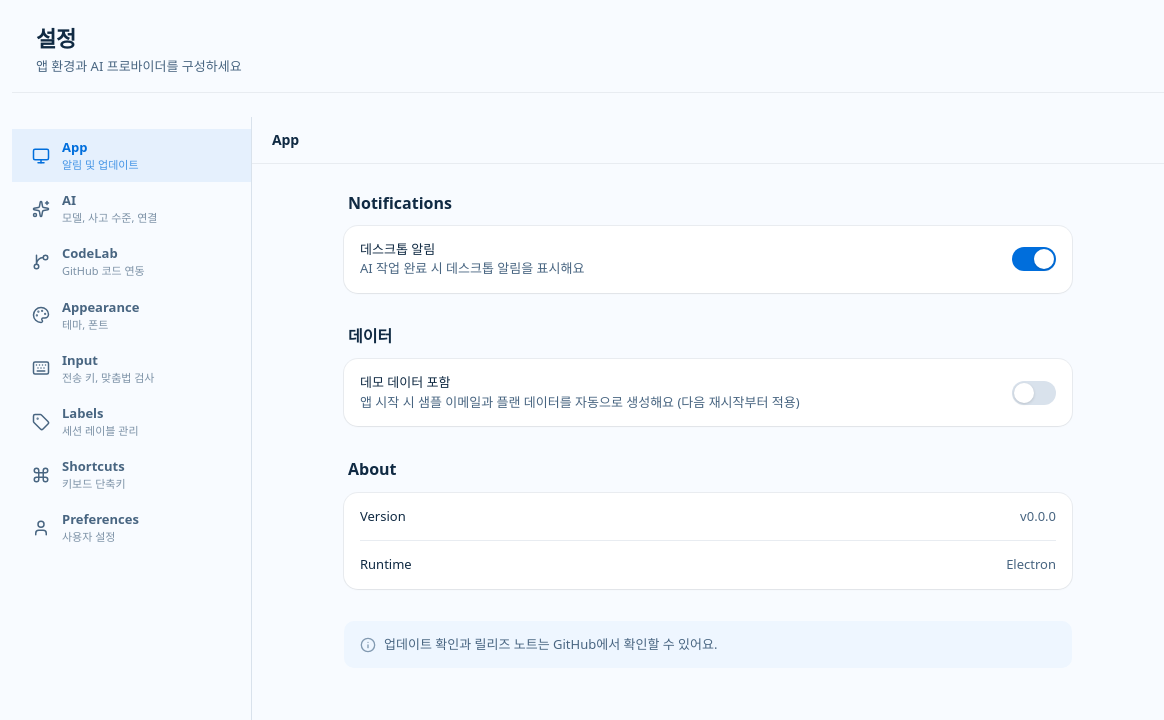
SettingsPage › Labels 카테고리에서 Coming Soon 상태를 표시한다
Click the button "Labels 세션 레이블 관리" at x=132, y=422, box [12,395,251,448]
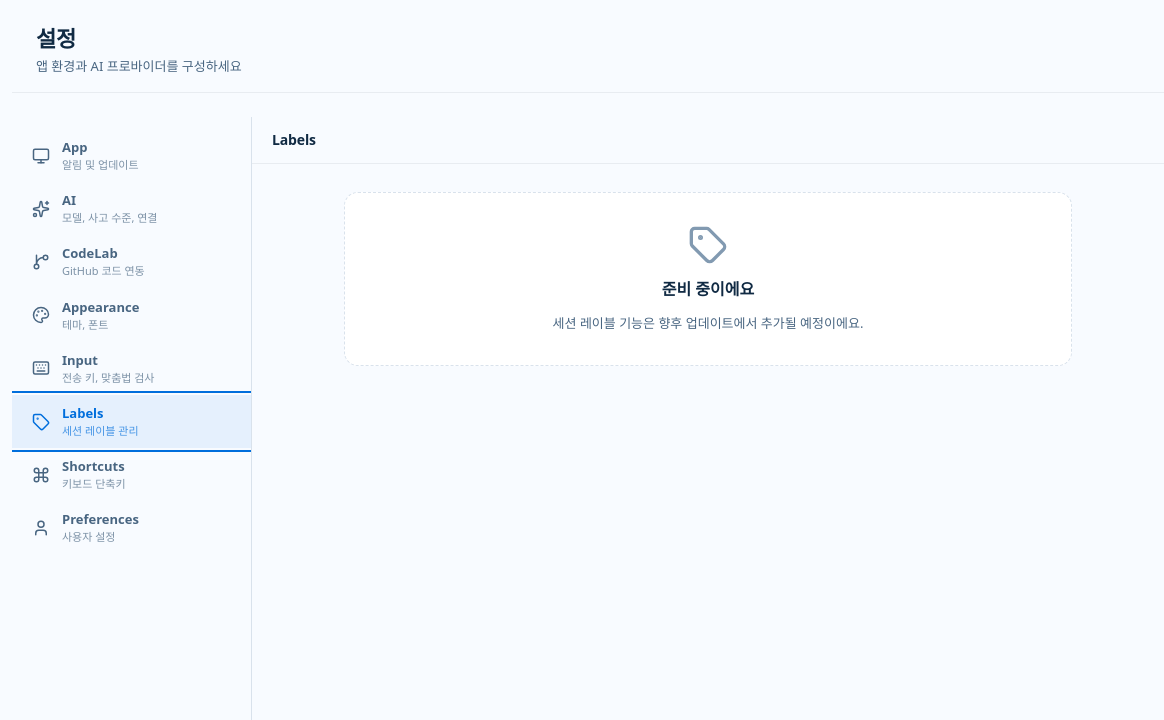
Expected: the heading "준비 중이에요" is shown, [662,277,754,301]
